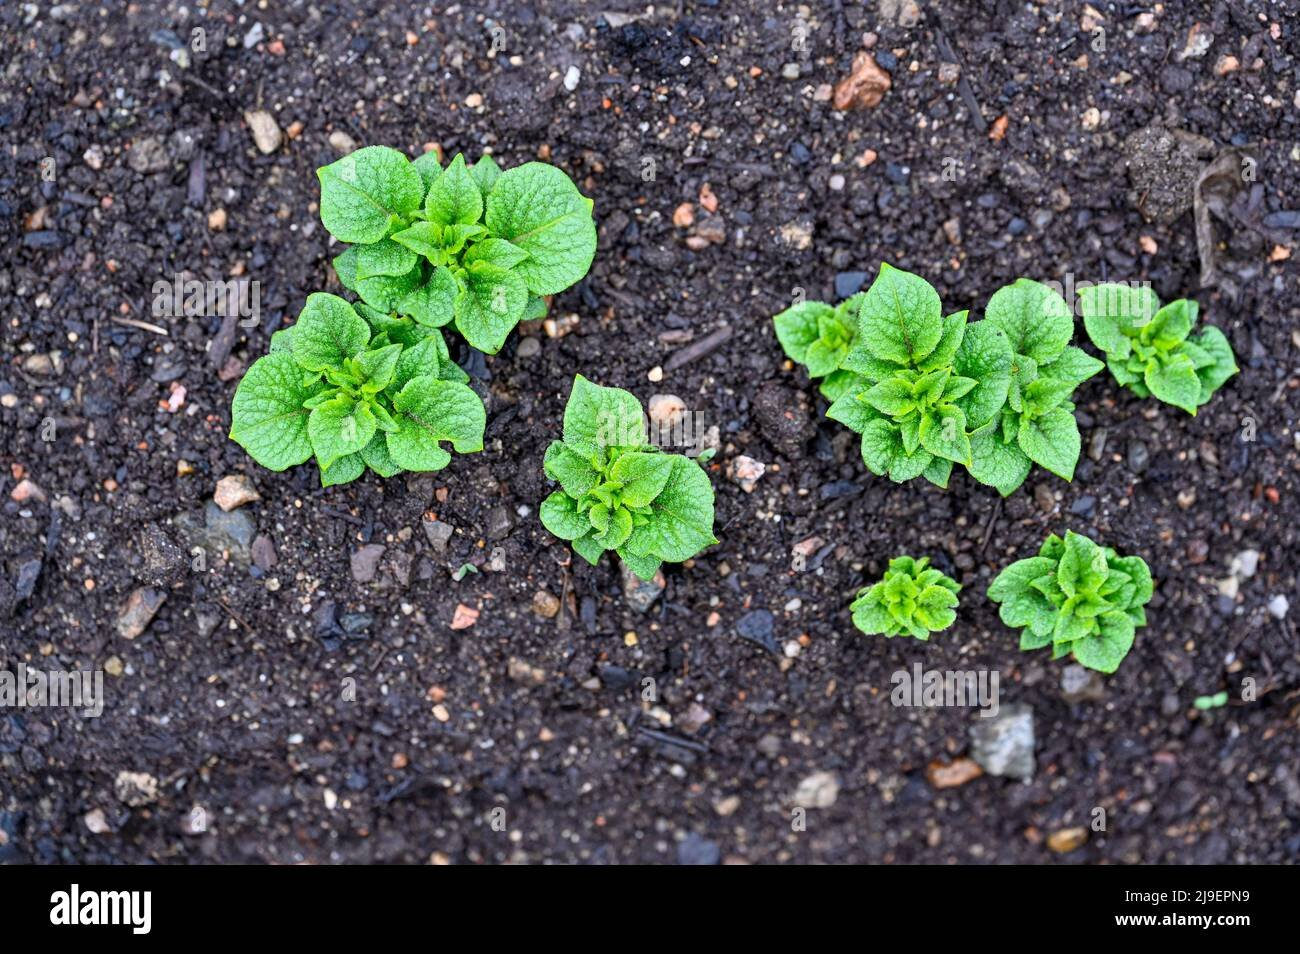potato_plant: (768, 259, 1109, 496), (313, 140, 602, 355), (225, 293, 490, 494), (539, 367, 721, 581), (987, 538, 1161, 681), (1079, 271, 1247, 416), (847, 552, 960, 649)
